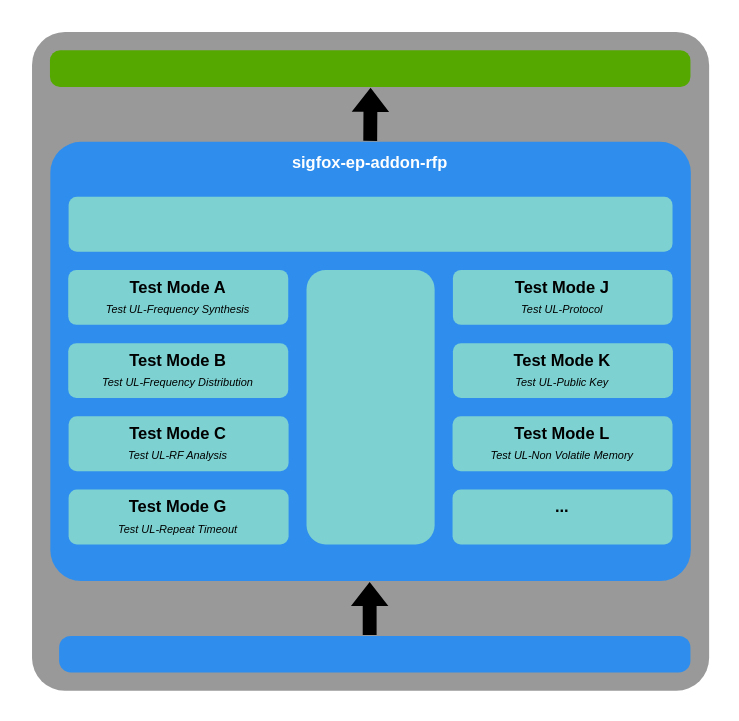
Image size: 739x721. Some labels were removed from this diagram. Each missing label, with the box of its shape:
Device application: (49, 49, 690, 86)
EP_ADDON_RFP_API RF & Protocol test mode functions: (68, 196, 672, 251)
sigfox-ep-lib: (58, 635, 690, 672)
Test Mode Core: (306, 269, 434, 544)
